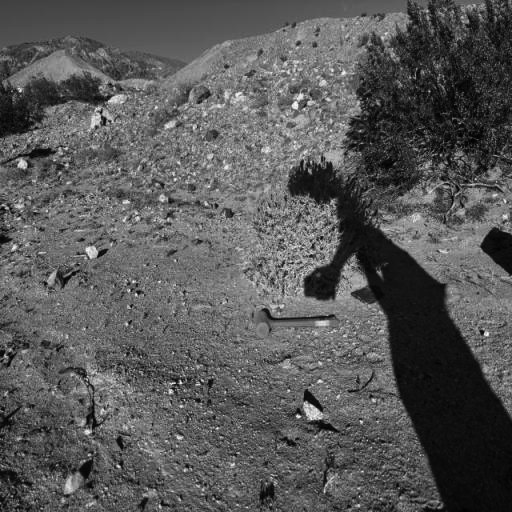mallet: (251, 305, 339, 342)
